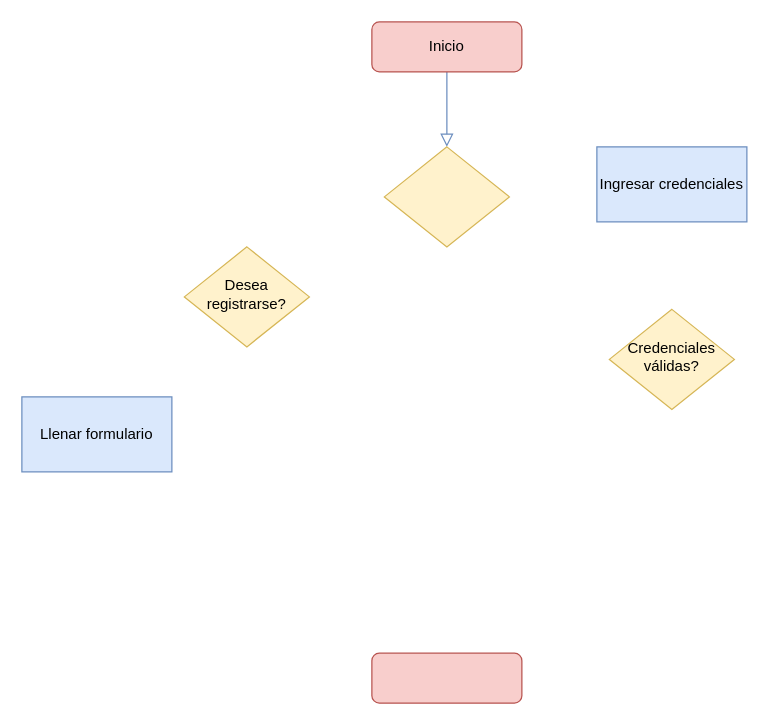
Image size: 769x725. Some labels were removed from this diagram. Here are the shapes that lost their labels. From the top down, the box of each, then its label:
(383, 146, 509, 247): Existe el usuario?
(371, 652, 522, 703): Fin
